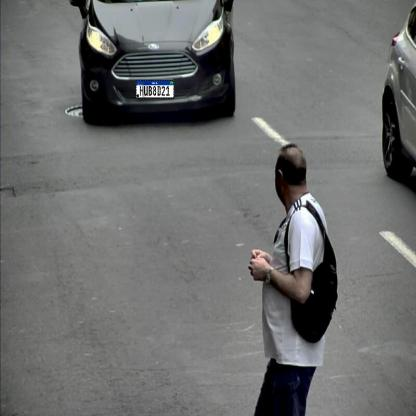PlacaM: (136, 80, 174, 98)
